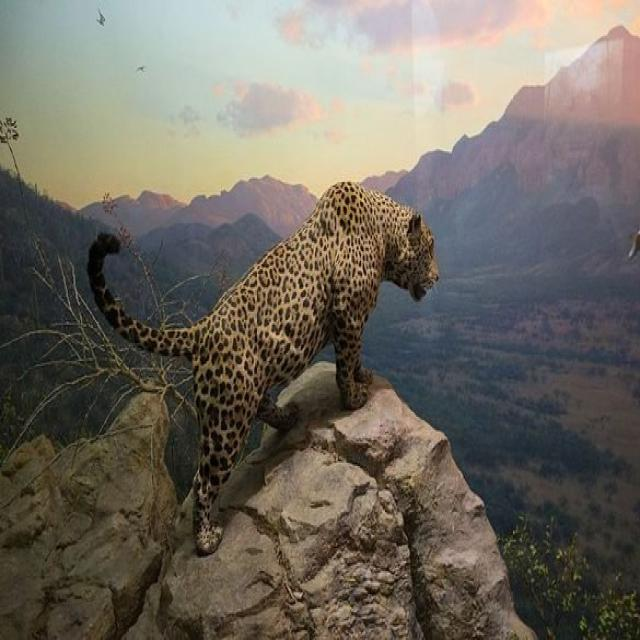Jaguar: (84, 179, 438, 559)
